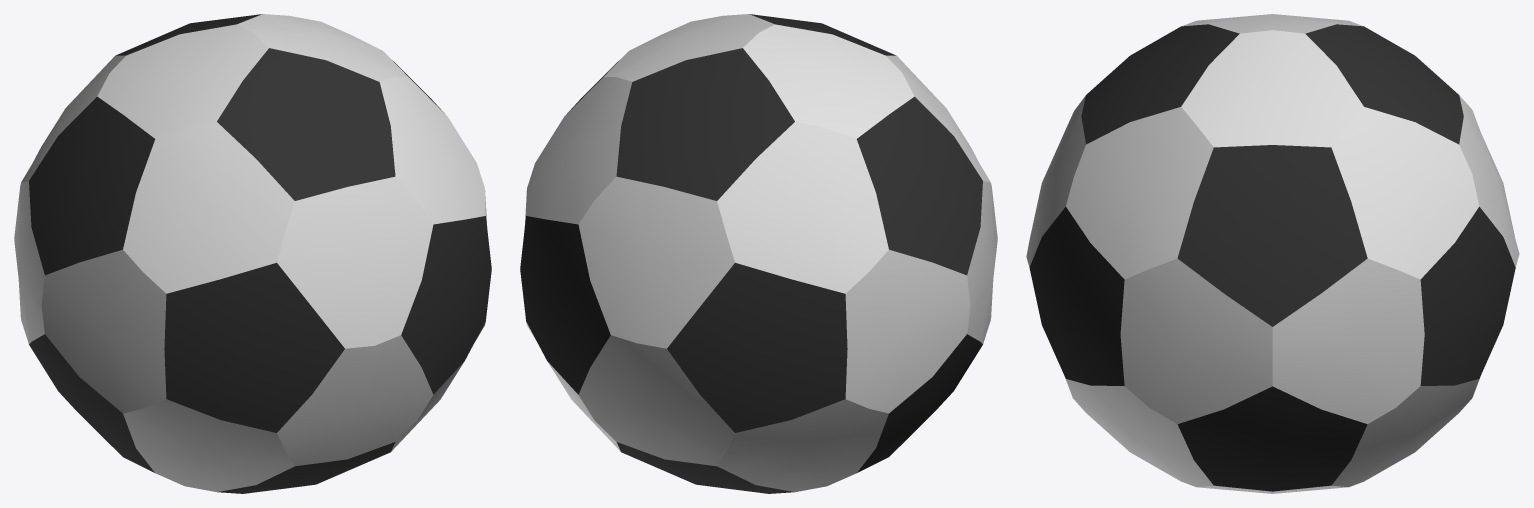
Rendered from soccer_ball_01.FBX.
The picture shows the model from 3 angles, left to right: view 1: azimuth 30°, elevation 25°; view 2: azimuth 150°, elevation 25°; view 3: azimuth 270°, elevation 25°; orthographic projection.
Parts seen in each view (by area): view 1: soccer_ball_01; view 2: soccer_ball_01; view 3: soccer_ball_01.
Boxes of the visible parts, x1,y1,x2,y2 form: soccer_ball_01: [14, 14, 491, 493]; soccer_ball_01: [520, 14, 997, 493]; soccer_ball_01: [1026, 14, 1519, 493].
Size of the model in its own units: 82.15 by 82.02 by 82.15.
1 material, 1 textured.
